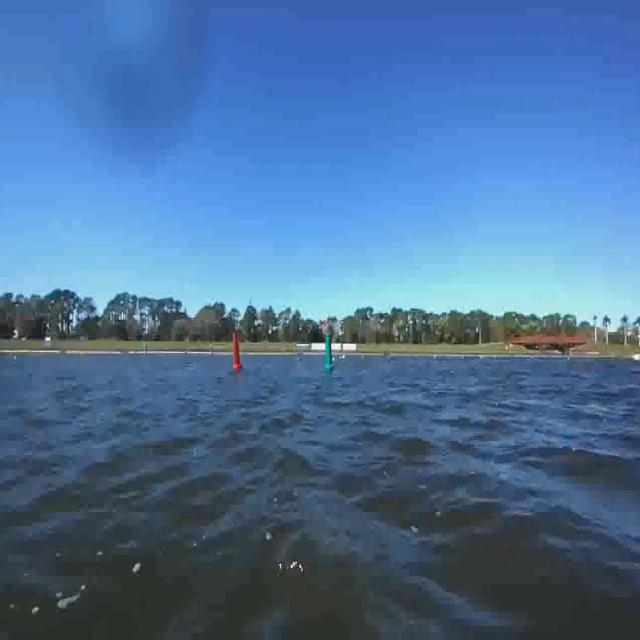green-column-buoy: (318, 320, 340, 399)
red-column-buoy: (228, 316, 245, 378)
